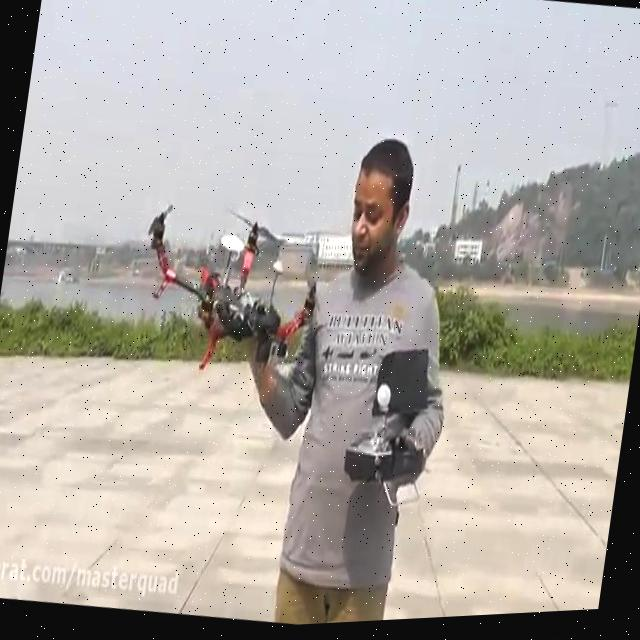drone: (126, 189, 338, 396)
